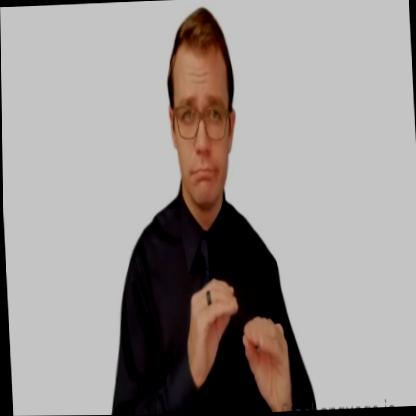Fix: (187, 269, 285, 415)
